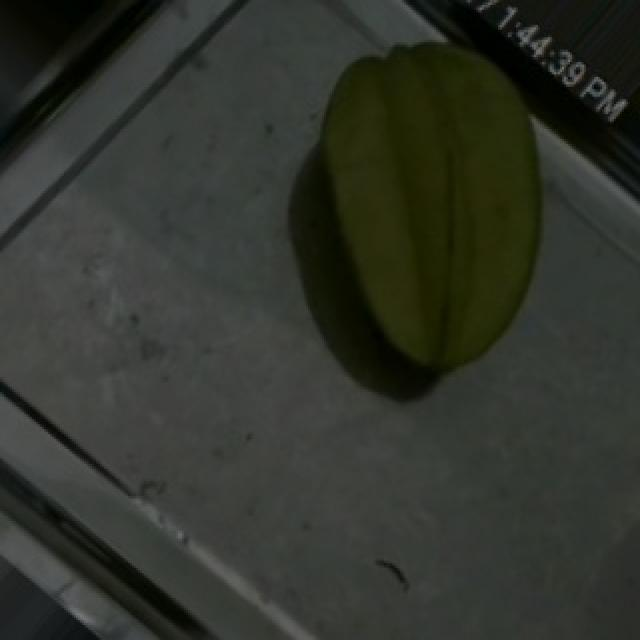fruit: (252, 7, 616, 387)
